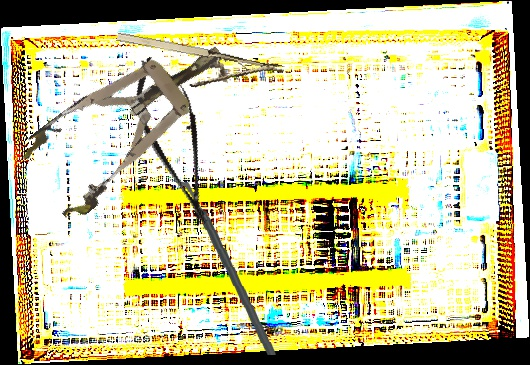Chopper: (172, 175, 278, 360)
Micro Scissor: (121, 49, 230, 233)
Needle Holder: (110, 27, 285, 107)
Speculum: (13, 14, 250, 226)
